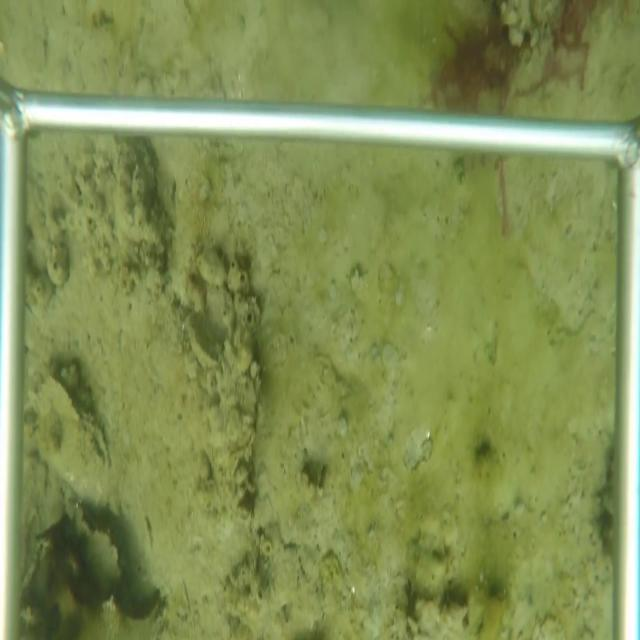Oyster-Closed: (25, 373, 115, 519)
